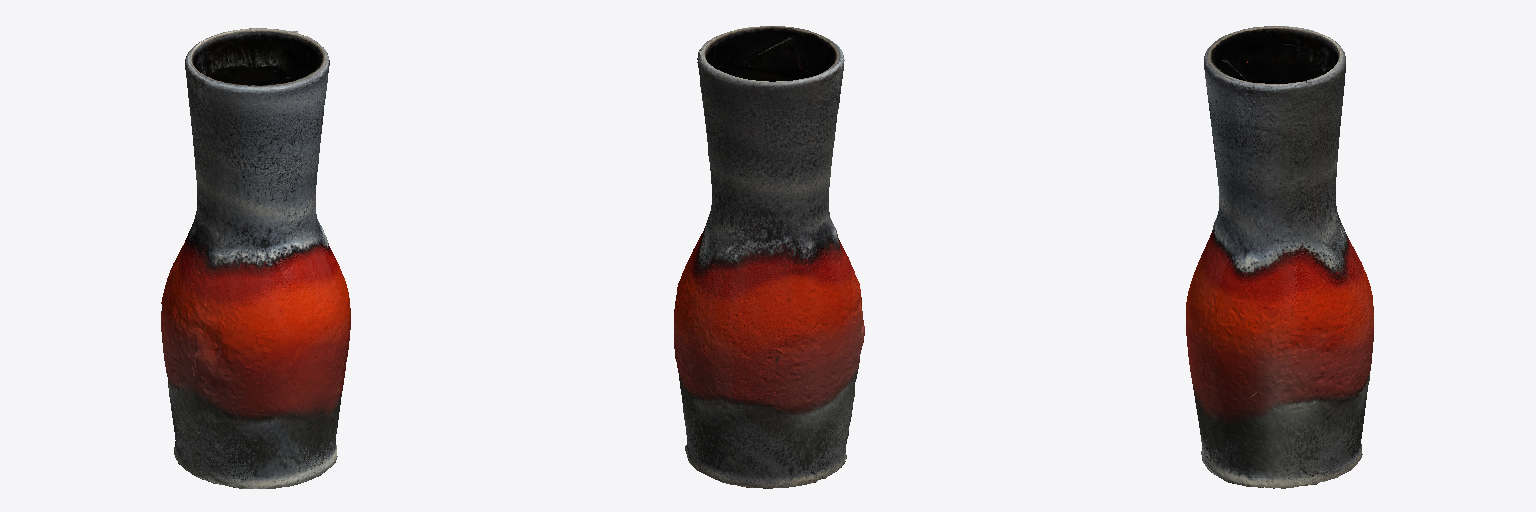
3 renders of one model, left to right at view 1: azimuth 30°, elevation 25°; view 2: azimuth 150°, elevation 25°; view 3: azimuth 270°, elevation 25°, orthographic.
Visible parts, largest first — view 1: 3DModel_LowPoly; view 2: 3DModel_LowPoly; view 3: 3DModel_LowPoly.
Part boxes in pixels (x1,y1,x2,y2): 3DModel_LowPoly: (161,28,350,488); 3DModel_LowPoly: (674,26,864,488); 3DModel_LowPoly: (1186,26,1373,488).
Bounding box in the file's own units: 0.6671 × 1.56 × 0.6645.
1 materials, 1 textured.